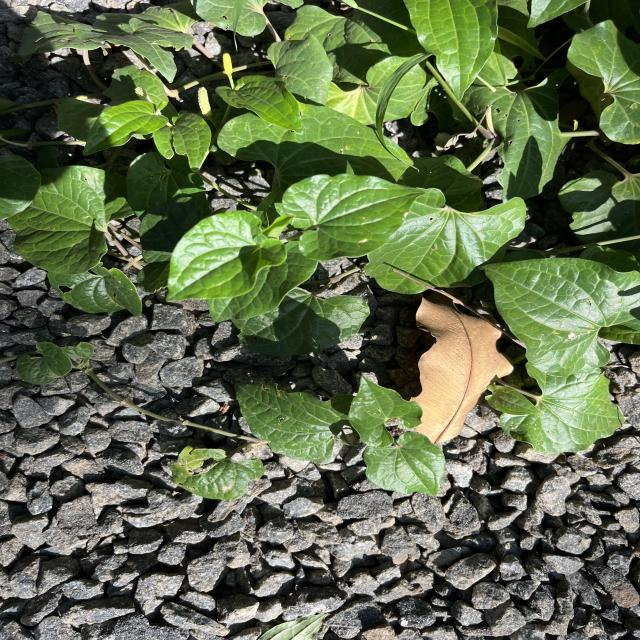Piper longum: (474, 254, 640, 380), (360, 428, 448, 499), (346, 370, 424, 450), (214, 73, 306, 136)
